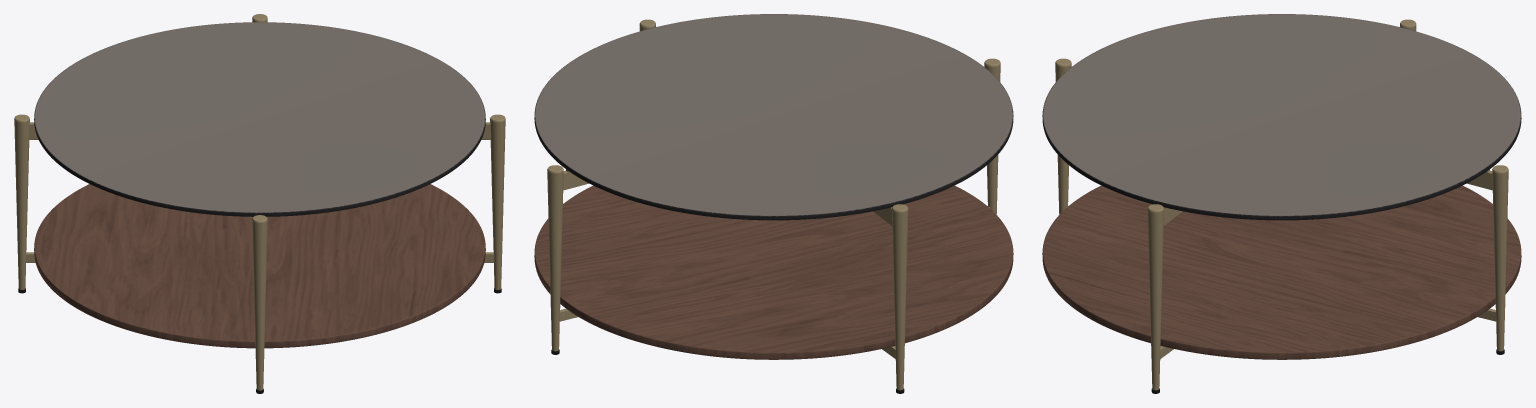
Rendered from abo_B07HSG2V2Y.glb.
3 views of the same model, side by side, from view 1: azimuth 30°, elevation 25°; view 2: azimuth 150°, elevation 25°; view 3: azimuth 270°, elevation 25° (orthographic). The views are drawn at different scales.
Visible parts, largest first — view 1: consolidatedNode; view 2: consolidatedNode; view 3: consolidatedNode.
Part boxes in pixels (left/top/right/bottom): consolidatedNode: left=14, top=14, right=505, bottom=393; consolidatedNode: left=534, top=14, right=1013, bottom=393; consolidatedNode: left=1042, top=14, right=1521, bottom=393.
Bounding box in the file's own units: 0.938 × 0.4 × 0.938.
2 materials, 2 textured.
